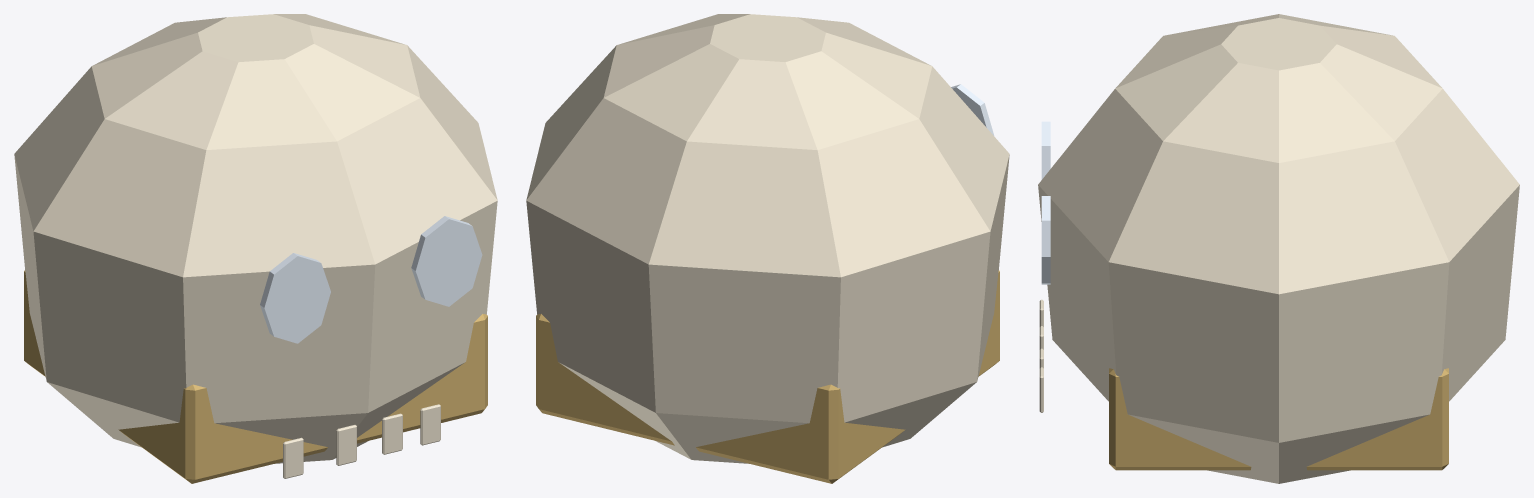
Rendered from sugar_skull_giant.glb.
3 renders of one model, left to right at view 1: azimuth 30°, elevation 25°; view 2: azimuth 150°, elevation 25°; view 3: azimuth 270°, elevation 25°, orthographic.
Parts seen in each view (by area): view 1: Cráneo, Mandíbula, Cuenca fosforescente, Cuenca fosforescente.001, Diente.003, Diente, Diente.002, Diente.001; view 2: Cráneo, Mandíbula, Cuenca fosforescente; view 3: Cráneo, Mandíbula, Cuenca fosforescente.001, Cuenca fosforescente.
Boxes of the visible parts, bbox=[...] form: Cráneo: bbox=[14, 14, 497, 463]; Mandíbula: bbox=[24, 270, 487, 483]; Cuenca fosforescente: bbox=[260, 253, 330, 343]; Cuenca fosforescente.001: bbox=[411, 216, 482, 306]; Diente.003: bbox=[420, 404, 440, 445]; Diente: bbox=[283, 437, 303, 478]; Diente.002: bbox=[382, 413, 402, 454]; Diente.001: bbox=[336, 425, 356, 465]; Cráneo: bbox=[526, 14, 1009, 463]; Mandíbula: bbox=[536, 270, 999, 483]; Cuenca fosforescente: bbox=[951, 84, 994, 135]; Cráneo: bbox=[1038, 14, 1519, 483]; Mandíbula: bbox=[1109, 368, 1448, 470]; Cuenca fosforescente.001: bbox=[1041, 196, 1050, 284]; Cuenca fosforescente: bbox=[1041, 121, 1050, 179].
Size of the model in its own units: 1.4 by 1.1 by 1.3.
